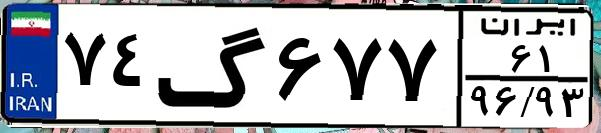1: (537, 27, 568, 80)
3: (560, 70, 590, 125)
4: (110, 28, 156, 98)
6: (270, 28, 330, 110), (508, 27, 537, 80), (495, 70, 520, 125)
7: (385, 28, 445, 110), (330, 28, 385, 110), (57, 26, 110, 100)
9: (470, 70, 495, 125), (535, 70, 560, 125)
گ: (156, 12, 270, 120)
